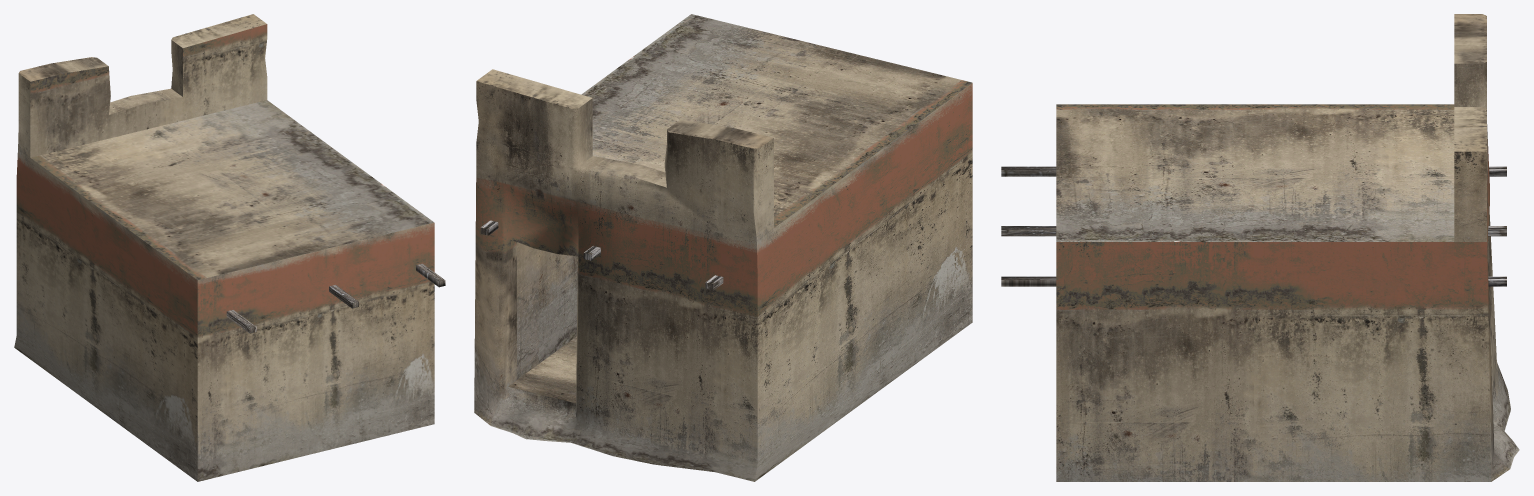
The model's file is BuildingP.obj.
3 views of the same model, side by side, from view 1: azimuth 30°, elevation 25°; view 2: azimuth 150°, elevation 25°; view 3: azimuth 270°, elevation 25° (orthographic). The views are drawn at different scales.
Parts seen in each view (by area): view 1: BuildingP; view 2: BuildingP; view 3: BuildingP.
Part boxes in pixels (bbox=[...]): BuildingP: bbox=[14, 14, 445, 481]; BuildingP: bbox=[474, 14, 972, 481]; BuildingP: bbox=[1001, 14, 1519, 481].
Bounding box in the file's own units: 164 × 184 × 262.
